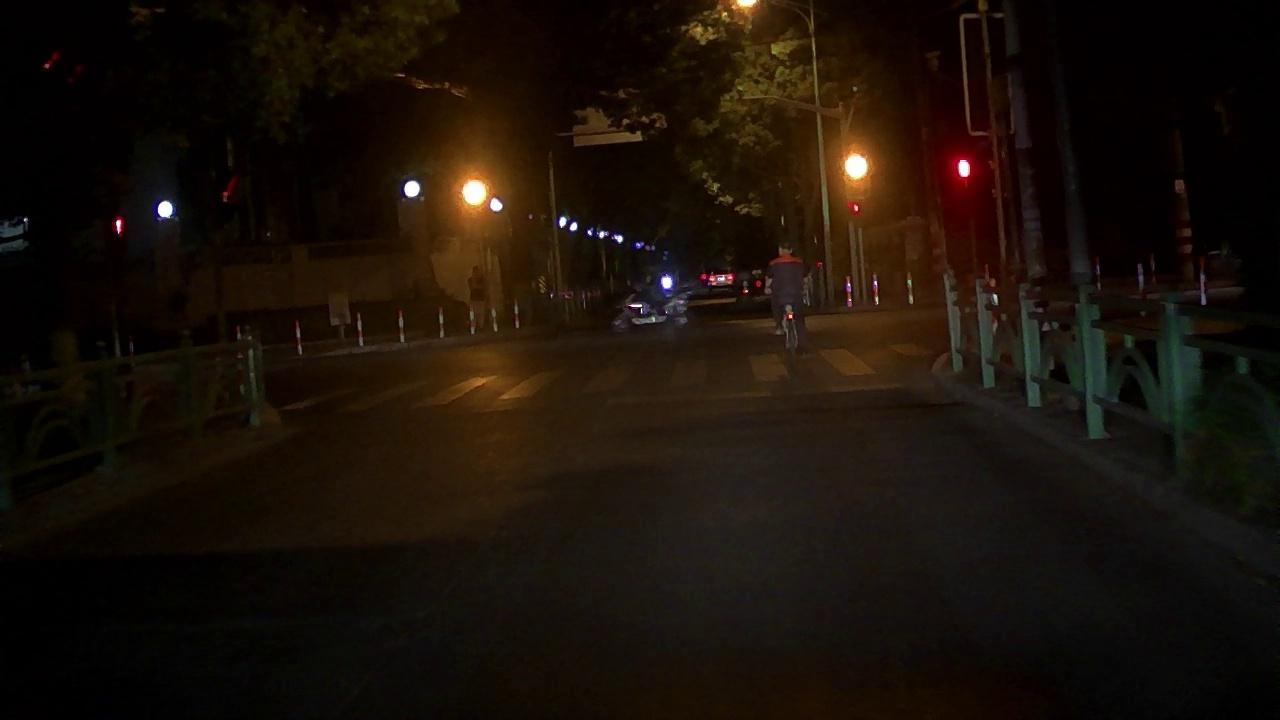traffic_light: (836, 145, 877, 186), (455, 170, 494, 211)
